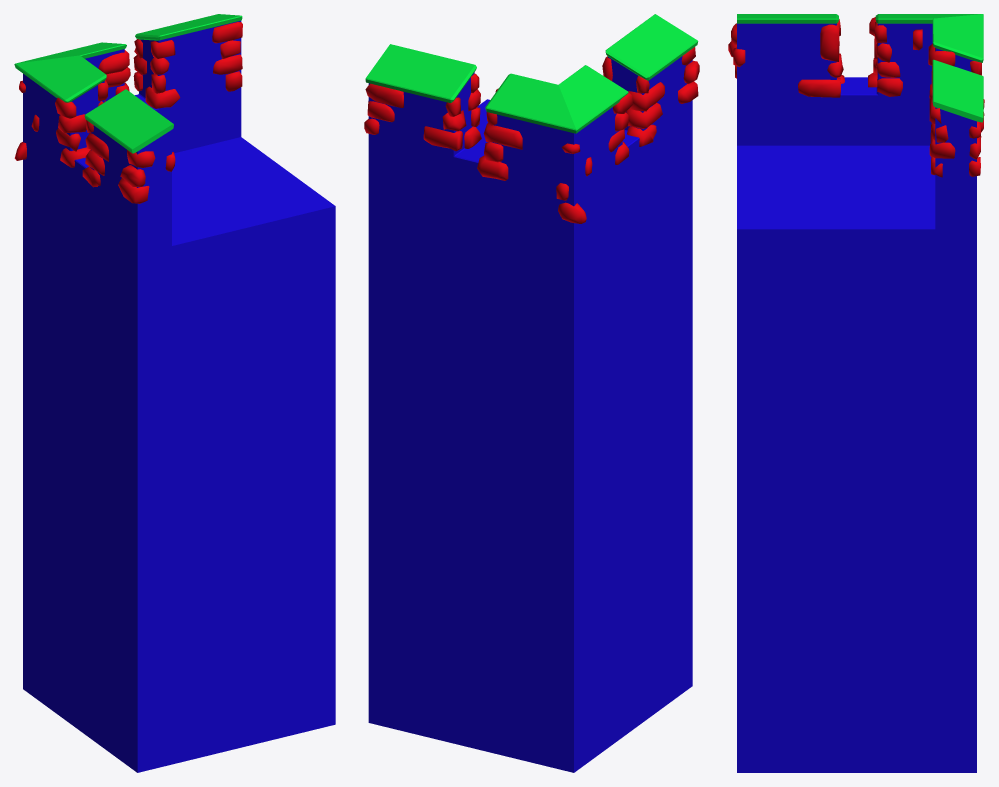
Rendered from Medieval WallCorner.fbx.
The picture shows the model from 3 angles, left to right: view 1: azimuth 30°, elevation 25°; view 2: azimuth 150°, elevation 25°; view 3: azimuth 270°, elevation 25°; orthographic projection. The views are drawn at different scales.
Visible parts, largest first — view 1: WallCorner; view 2: WallCorner; view 3: WallCorner.
Part boxes in pixels (left/top/right/bottom): WallCorner: left=14, top=14, right=335, bottom=772; WallCorner: left=364, top=14, right=699, bottom=772; WallCorner: left=728, top=14, right=984, bottom=772.
Size of what is drawn, in the model's own units: 2.13 by 6.18 by 2.14.
